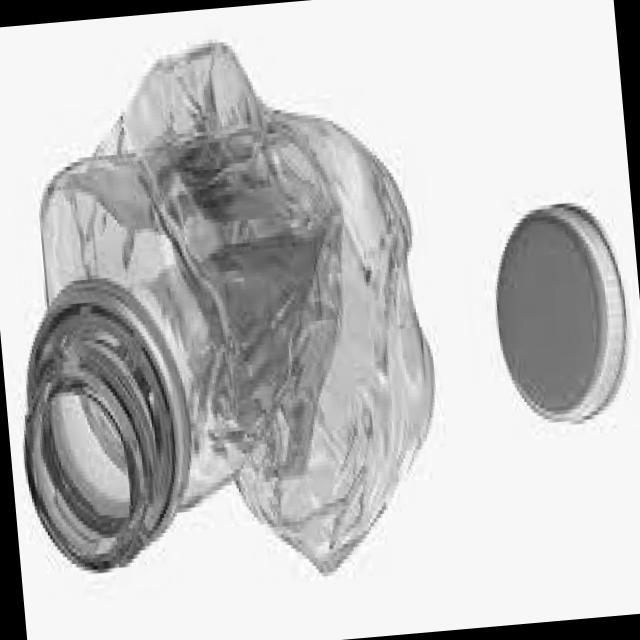defected: (0, 18, 455, 611)
